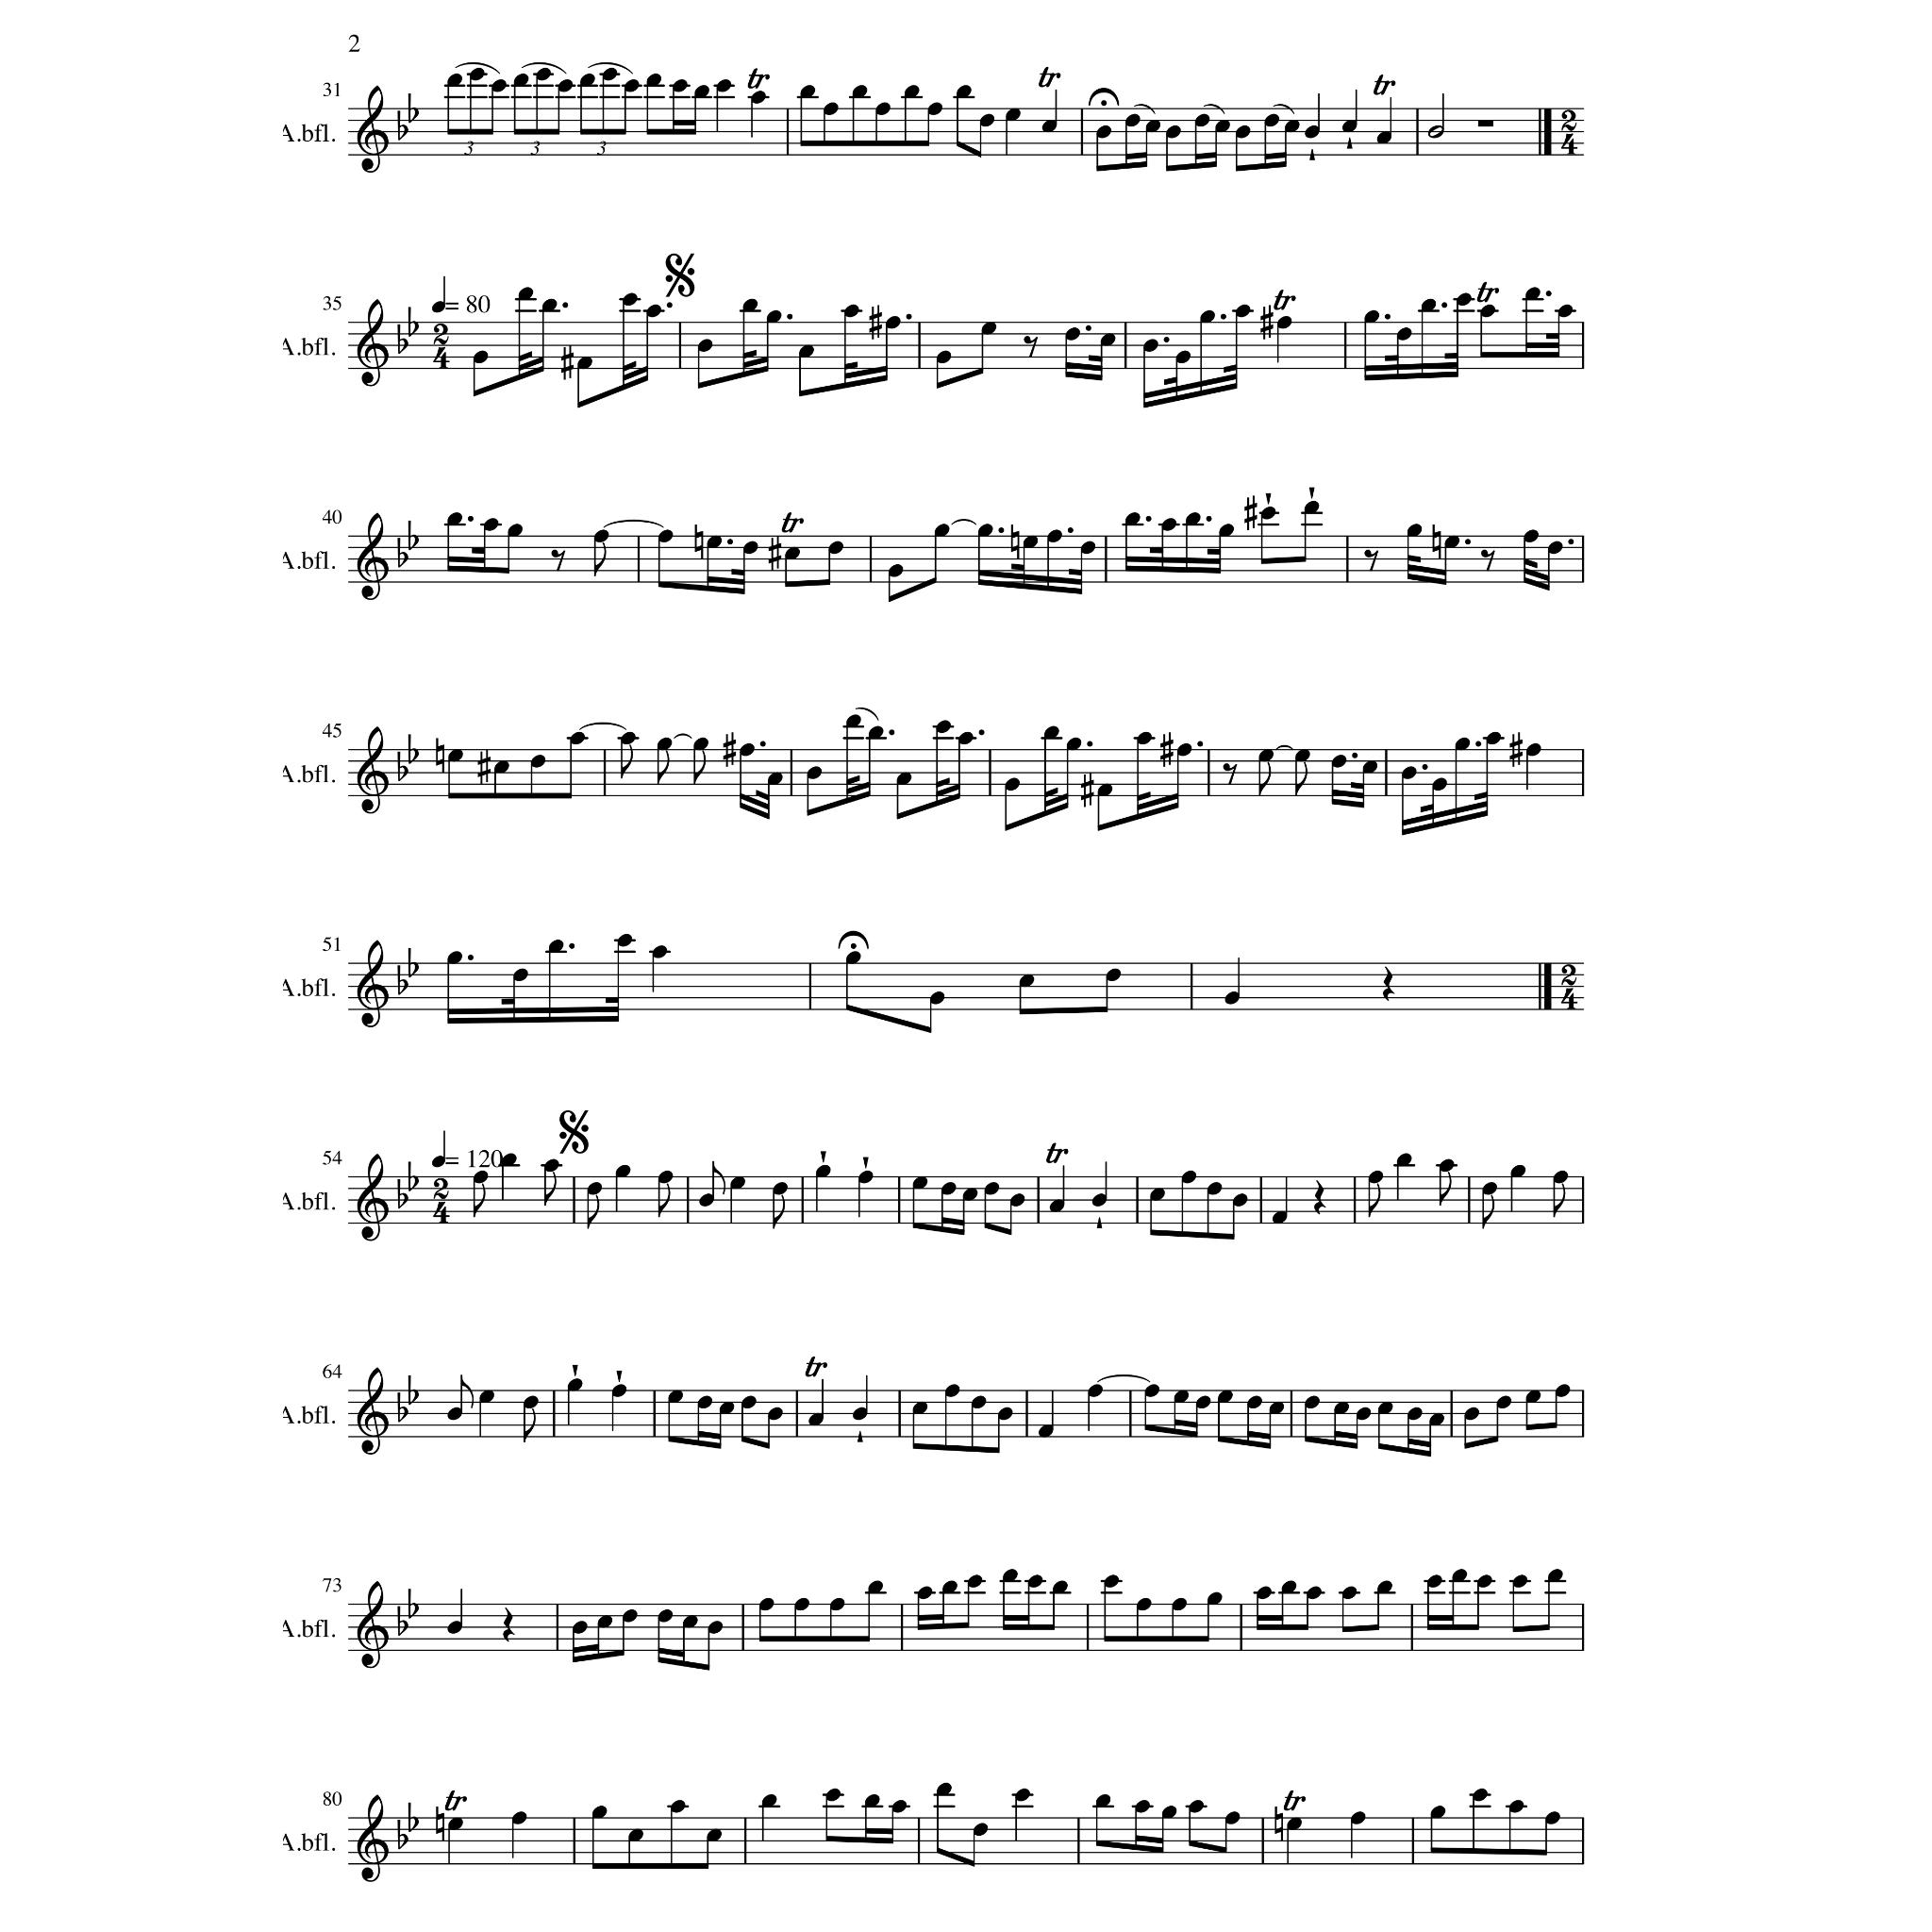flag8thDown: (621, 743, 633, 778), (694, 750, 706, 786), (656, 750, 669, 786), (1483, 1194, 1495, 1230), (1553, 1182, 1566, 1217), (1368, 1182, 1380, 1217), (587, 1194, 600, 1230), (658, 1182, 671, 1217), (472, 1182, 485, 1217), (773, 1194, 786, 1230), (594, 543, 607, 577), (1295, 763, 1307, 796), (1438, 1171, 1451, 1205), (543, 1171, 556, 1205), (524, 1408, 536, 1442), (1260, 763, 1270, 796)
flag8thUp: (460, 1375, 474, 1410), (713, 1161, 725, 1196)
gClef: (357, 87, 389, 175), (357, 299, 389, 387), (357, 513, 389, 602), (357, 725, 389, 814), (357, 939, 389, 1028), (357, 1154, 389, 1242), (357, 1368, 389, 1456), (357, 1580, 389, 1668), (357, 1794, 389, 1882)
noteheadBlack: (1214, 119, 1231, 133), (1341, 119, 1359, 133), (517, 287, 534, 301), (446, 511, 464, 525), (446, 950, 464, 964), (844, 950, 862, 964), (616, 934, 633, 948), (1270, 1210, 1288, 1224), (1553, 1384, 1571, 1398), (943, 1384, 961, 1398), (446, 1621, 464, 1635), (971, 1822, 989, 1836), (1145, 119, 1161, 133), (1040, 119, 1056, 133), (1005, 108, 1021, 122), (1284, 119, 1300, 133), (1376, 131, 1392, 145), (602, 67, 617, 81), (557, 80, 573, 94), (672, 80, 688, 94), (536, 67, 552, 81), (623, 80, 639, 94), (492, 80, 508, 94), (469, 67, 485, 81), (823, 103, 839, 117), (927, 103, 943, 117), (876, 103, 892, 117), (715, 80, 731, 94), (750, 90, 766, 104), (1200, 310, 1215, 324), (1175, 350, 1191, 364), (1364, 310, 1380, 324), (1235, 304, 1251, 318), (1276, 315, 1292, 329), (1557, 304, 1573, 318), (1525, 287, 1541, 301), (1479, 304, 1495, 318), (646, 304, 662, 318), (577, 356, 593, 370), (472, 350, 488, 364), (936, 350, 952, 364), (885, 315, 901, 329), (844, 304, 860, 318), (766, 310, 782, 324), (1185, 511, 1201, 525), (1304, 501, 1320, 515), (1260, 506, 1276, 520), (1125, 511, 1141, 525), (1079, 541, 1095, 556), (1546, 541, 1562, 556), (784, 547, 800, 561), (828, 541, 844, 556), (743, 541, 759, 556), (1295, 748, 1311, 763), (1258, 748, 1274, 763), (1065, 738, 1081, 752), (1177, 743, 1192, 757), (1097, 784, 1113, 798), (1525, 743, 1541, 757), (1401, 766, 1417, 780), (1431, 778, 1447, 793), (1454, 738, 1470, 752), (656, 738, 672, 752), (694, 738, 709, 752), (448, 748, 464, 763), (740, 743, 755, 757), (1005, 778, 1021, 793), (846, 715, 862, 729), (807, 766, 823, 780), (1224, 991, 1240, 1005), (929, 991, 945, 1005), (548, 939, 564, 954), (651, 945, 667, 959), (1207, 1182, 1223, 1196), (984, 1182, 1000, 1196), (1049, 1198, 1065, 1212), (1150, 1187, 1166, 1201), (1481, 1182, 1497, 1196), (1438, 1159, 1454, 1173), (586, 1182, 602, 1196), (543, 1159, 559, 1173), (939, 1182, 955, 1196), (771, 1182, 787, 1196), (962, 1187, 978, 1201), (1269, 1401, 1284, 1415), (1217, 1389, 1233, 1403), (1194, 1396, 1210, 1410), (1334, 1401, 1350, 1415), (1304, 1396, 1320, 1410), (1145, 1384, 1161, 1398), (1088, 1384, 1104, 1398), (1173, 1389, 1189, 1403), (1525, 1389, 1541, 1403), (1495, 1396, 1511, 1410), (1378, 1401, 1394, 1415), (667, 1389, 683, 1403), (610, 1384, 626, 1398), (740, 1396, 755, 1410), (718, 1401, 734, 1415), (697, 1396, 713, 1410), (522, 1396, 538, 1410), (479, 1389, 495, 1403), (911, 1401, 927, 1415), (1037, 1424, 1053, 1438), (970, 1396, 985, 1410), (1171, 1598, 1187, 1612), (1281, 1580, 1297, 1594), (1051, 1580, 1067, 1594), (1136, 1598, 1152, 1612), (1376, 1580, 1392, 1594), (757, 1598, 773, 1612), (708, 1621, 724, 1635), (571, 1621, 587, 1635), (830, 1598, 846, 1612), (941, 1580, 957, 1594), (867, 1580, 883, 1594), (794, 1598, 810, 1612), (1189, 1799, 1205, 1813), (1161, 1805, 1177, 1819), (1286, 1817, 1302, 1831), (1095, 1794, 1111, 1808), (1134, 1799, 1150, 1813), (1507, 1799, 1523, 1813), (1430, 1805, 1445, 1819), (628, 1828, 644, 1842), (669, 1799, 685, 1813), (706, 1828, 722, 1842), (448, 1817, 464, 1831), (591, 1805, 607, 1819), (863, 1794, 879, 1808), (892, 1799, 908, 1813), (761, 1794, 777, 1808), (446, 74, 464, 87), (1099, 334, 1116, 347), (1454, 294, 1472, 306), (886, 564, 904, 577), (1042, 727, 1060, 740), (446, 1408, 464, 1421), (1511, 1575, 1529, 1587), (1014, 1789, 1031, 1801), (800, 345, 814, 359), (1247, 1396, 1261, 1410), (1166, 126, 1182, 138), (1125, 115, 1141, 127), (1263, 115, 1279, 127), (1235, 126, 1251, 138), (1194, 115, 1210, 127), (978, 115, 994, 127), (955, 85, 971, 97), (1095, 126, 1111, 138), (1304, 126, 1320, 138), (580, 74, 596, 87), (646, 74, 662, 87), (513, 74, 529, 87), (851, 85, 867, 97), (904, 85, 920, 97), (800, 85, 816, 97), (694, 85, 709, 97), (1065, 327, 1081, 340), (1143, 340, 1159, 352), (1396, 327, 1412, 340), (1421, 299, 1437, 311), (623, 294, 639, 306), (697, 340, 713, 352), (541, 299, 557, 311), (980, 322, 996, 334), (741, 299, 757, 311), (1219, 524, 1235, 536), (1047, 531, 1063, 543), (1161, 518, 1177, 531), (1523, 531, 1539, 543), (1407, 524, 1422, 536), (1444, 536, 1460, 548), (656, 531, 672, 543), (593, 531, 609, 543), (706, 536, 722, 548), (508, 524, 524, 536), (483, 518, 499, 531), (934, 524, 950, 536), (1023, 536, 1039, 548), (977, 524, 993, 536), (1330, 755, 1346, 768), (1136, 732, 1152, 745), (1486, 732, 1502, 745), (1362, 761, 1378, 773), (621, 732, 637, 745), (570, 732, 586, 745), (529, 755, 545, 768), (494, 761, 510, 773), (895, 773, 911, 786), (936, 720, 952, 732), (867, 727, 883, 740), (957, 732, 973, 745), (766, 773, 782, 786), (1019, 975, 1035, 987), (1106, 970, 1122, 982), (513, 970, 529, 982), (1180, 1171, 1196, 1184), (1231, 1194, 1247, 1207), (1008, 1194, 1024, 1207), (1092, 1194, 1108, 1207), (1509, 1166, 1525, 1178), (1552, 1171, 1568, 1184), (1368, 1171, 1384, 1184), (1396, 1154, 1412, 1166), (656, 1171, 672, 1184), (614, 1166, 630, 1178), (699, 1194, 715, 1207), (472, 1171, 488, 1184), (501, 1154, 517, 1166), (858, 1171, 874, 1184), (911, 1177, 927, 1189), (729, 1177, 745, 1189), (816, 1166, 832, 1178), (1407, 1408, 1422, 1421), (1355, 1408, 1371, 1421), (1463, 1408, 1479, 1421), (1430, 1414, 1445, 1426), (768, 1408, 784, 1421), (566, 1378, 582, 1391), (996, 1408, 1012, 1421), (809, 1414, 824, 1426), (853, 1408, 869, 1421), (1256, 1587, 1272, 1599), (1207, 1592, 1223, 1605), (1104, 1575, 1120, 1587), (1026, 1575, 1042, 1587), (1546, 1569, 1562, 1582), (1476, 1575, 1491, 1587), (1426, 1575, 1442, 1587), (1341, 1587, 1357, 1599), (1451, 1569, 1467, 1582), (1306, 1587, 1322, 1599), (656, 1610, 672, 1622), (623, 1610, 639, 1622), (596, 1615, 612, 1628), (1003, 1569, 1019, 1582), (681, 1615, 697, 1628), (916, 1587, 932, 1599), (966, 1575, 982, 1587), (1224, 1812, 1240, 1824), (1545, 1812, 1560, 1824), (1350, 1812, 1366, 1824), (1472, 1789, 1488, 1801), (511, 1812, 527, 1824), (824, 1789, 840, 1801), (936, 1783, 952, 1796)
noteheadHalf: (1428, 126, 1444, 138)
rest8th: (1023, 336, 1039, 359), (1364, 548, 1380, 571), (1223, 763, 1238, 786), (1481, 548, 1495, 571), (550, 548, 564, 571)
restQuarter: (1382, 966, 1394, 1001), (502, 1606, 515, 1642), (1313, 1180, 1325, 1214)
restWhole: (1477, 120, 1493, 127)
